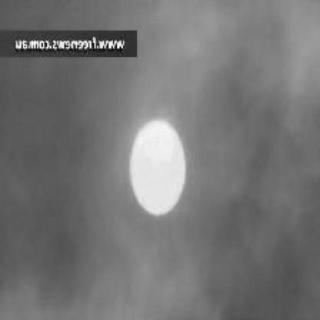other: (97, 104, 204, 224)
